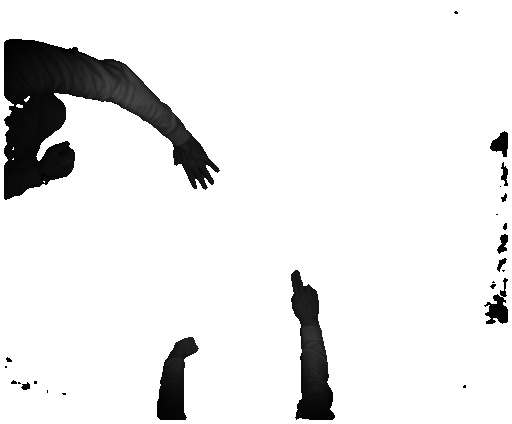fist: (44, 141, 79, 185), (173, 336, 199, 364)
hand: (175, 137, 223, 191), (288, 264, 319, 324)
